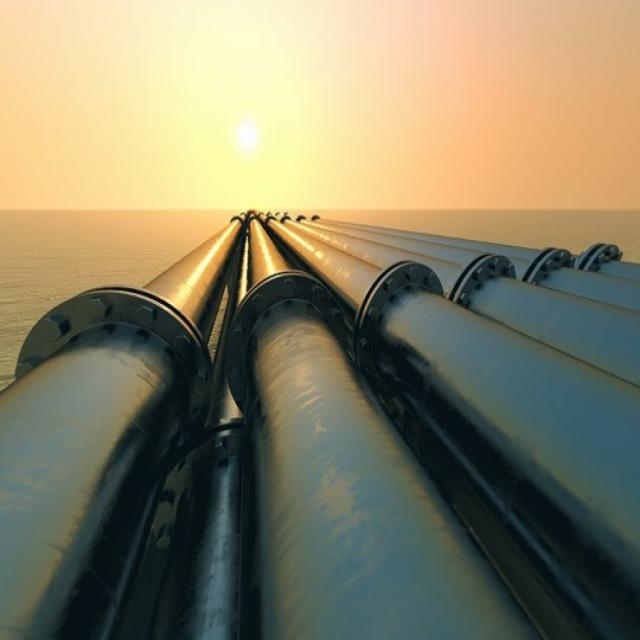gas: (266, 214, 640, 640), (247, 208, 530, 633), (0, 210, 246, 639), (298, 216, 640, 382), (340, 218, 640, 309)
